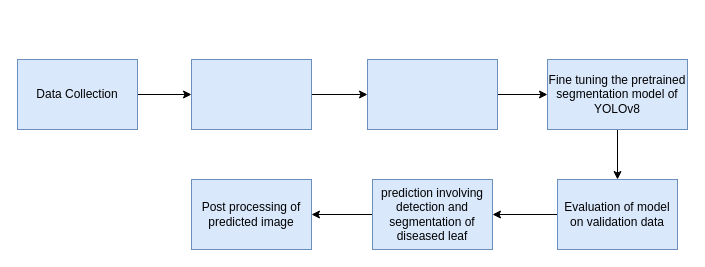
This 705x267 diagram has some shape labels left out. The centre of each missing label's shape, as x and y in pixels:
"Annotation of data(semi-supervised)" belongs at (x=432, y=94).
"Model selection" belongs at (x=251, y=94).
